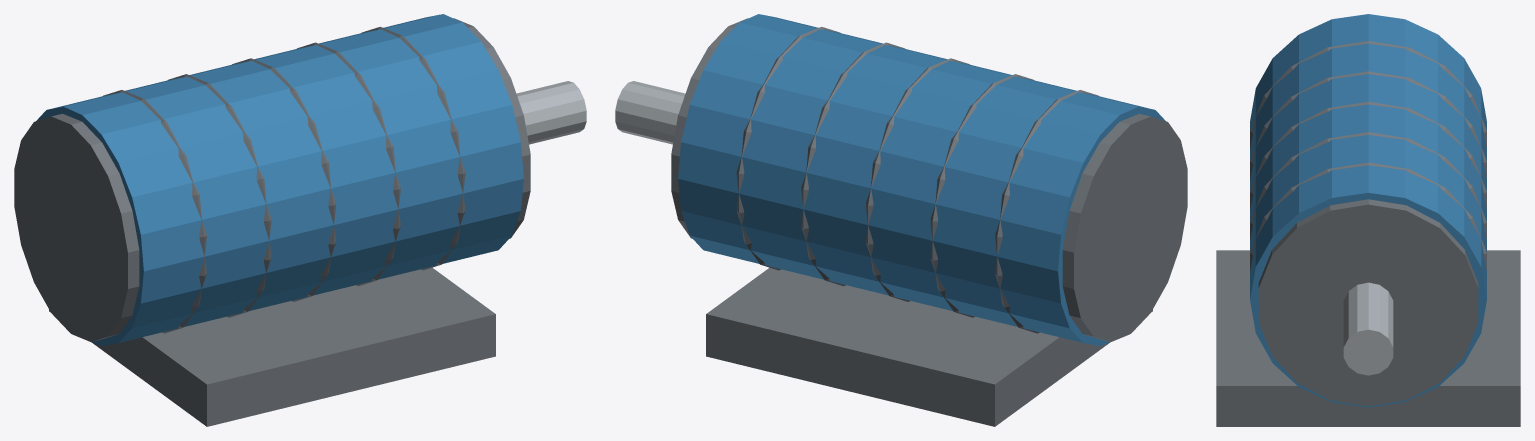
Rendered from motor.glb.
The picture shows the model from 3 angles, left to right: view 1: azimuth 30°, elevation 25°; view 2: azimuth 150°, elevation 25°; view 3: azimuth 270°, elevation 25°; orthographic projection. The views are drawn at different scales.
Visible parts, largest first — view 1: ForgeCore item; view 2: ForgeCore item; view 3: ForgeCore item.
Boxes of the visible parts, box(x1,y1,x2,y2) form: ForgeCore item: box(14, 14, 586, 426); ForgeCore item: box(615, 14, 1187, 426); ForgeCore item: box(1216, 14, 1520, 426).
Bounding box in the file's own units: 0.9925 × 0.5034 × 0.54.
